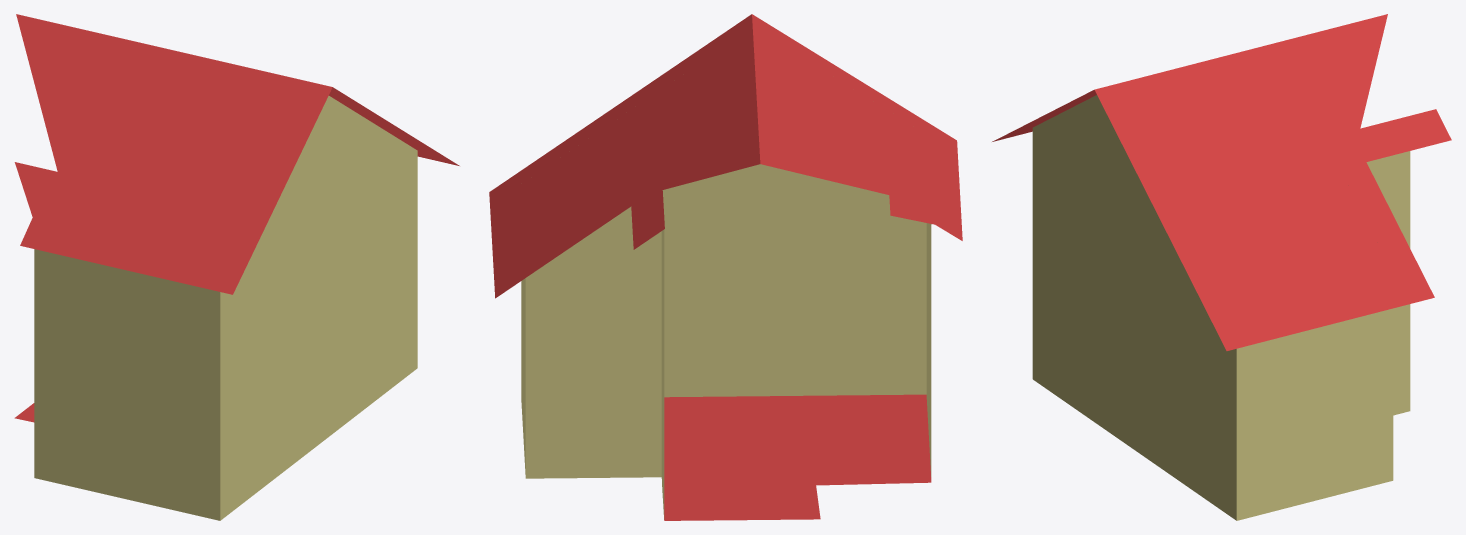
3 views of the same model, side by side, from view 1: azimuth 30°, elevation 25°; view 2: azimuth 150°, elevation 25°; view 3: azimuth 270°, elevation 25° (orthographic). The views are drawn at different scales.
Bounding box in the file's own units: 16.75 × 15.22 × 13.02.
